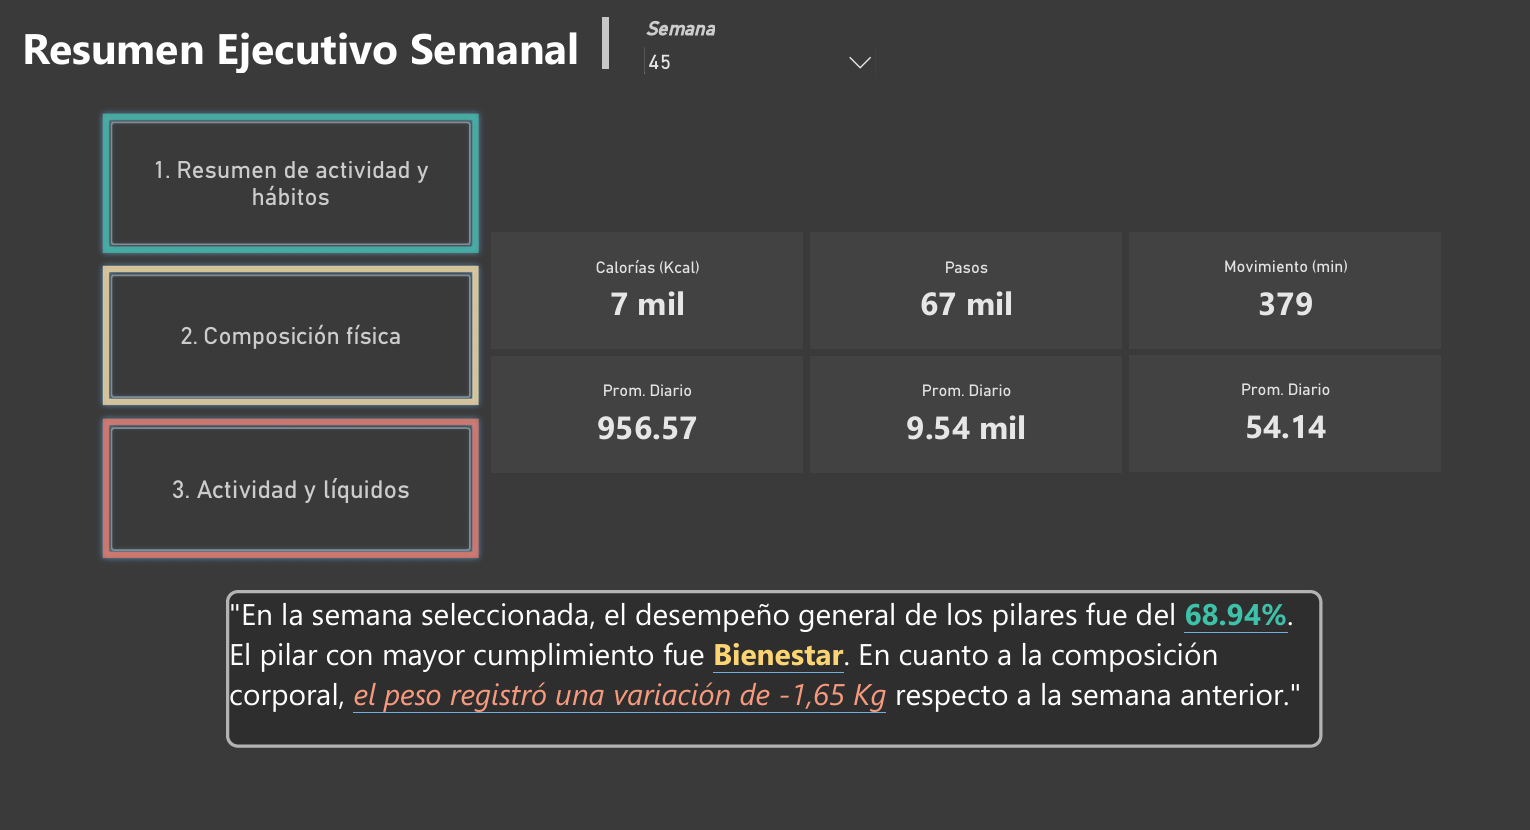

Layout of this report page (visuals, bound fields, positions):
{"tool":"powerbi","page":{"name":"Resumen Ejecutivo","canvas":[1920,1080],"ordinal":0},"visuals":[{"type":"actionButton","box":[141.9,539.9,450,154],"z":0},{"type":"actionButton","title":"1. Concentrado y hábitos","box":[141.9,158.2,450,154],"z":1000},{"type":"actionButton","box":[141.9,349.1,450,154],"z":2000},{"type":"textbox","box":[286,743.5,1371.3,196.8],"z":3000},{"type":"slicer","fields":{"Values":["TB_Salud.Semana"]},"box":[803.3,27.9,300.6,70],"z":4000},{"type":"textbox","box":[31,27.7,734.1,68.5],"z":5000},{"type":"cardVisual","fields":{"Data":["Sum(TB_Entrenamiento.Calorías  (Kcal))1","Avg(TB_Entrenamiento.Calorías  (Kcal))"]},"box":[618.5,296.6,390,300],"z":6000},{"type":"cardVisual","fields":{"Data":["Sum(TB_Entrenamiento.Pasos)","Avg(TB_Entrenamiento.Pasos)"]},"box":[1017.5,296.6,390,300],"z":7000},{"type":"shape","box":[123.7,139.7,486,190],"z":7500},{"type":"shape","box":[123.7,329.9,486,190],"z":7750},{"type":"shape","box":[123.7,521.4,486,190],"z":7875},{"type":"cardVisual","fields":{"Data":["Sum(TB_Entrenamiento.Movimiento (min))","Avg(TB_Entrenamiento.Movimiento (min))"]},"box":[1416.4,296.1,390,300],"z":8000}]}

Visuals, with their boxes on the page's 1920x1080 design canvas (x1, y1, x2, y2). These are canvas units, not pixel positions in the 1530x830 screenshot, which may show the page scaled, cropped or inside an application window:
actionButton: bbox=[142, 540, 592, 694]
"1. Concentrado y hábitos" actionButton: bbox=[142, 158, 592, 312]
actionButton: bbox=[142, 349, 592, 503]
textbox: bbox=[286, 744, 1657, 940]
slicer - TB_Salud.Semana: bbox=[803, 28, 1104, 98]
textbox: bbox=[31, 28, 765, 96]
cardVisual - Sum(TB_Entrenamiento.Calorías  (Kcal))1 x Avg(TB_Entrenamiento.Calorías  (Kcal)): bbox=[618, 297, 1008, 597]
cardVisual - Sum(TB_Entrenamiento.Pasos) x Avg(TB_Entrenamiento.Pasos): bbox=[1018, 297, 1408, 597]
shape: bbox=[124, 140, 610, 330]
shape: bbox=[124, 330, 610, 520]
shape: bbox=[124, 521, 610, 711]
cardVisual - Sum(TB_Entrenamiento.Movimiento (min)) x Avg(TB_Entrenamiento.Movimiento (min)): bbox=[1416, 296, 1806, 596]
